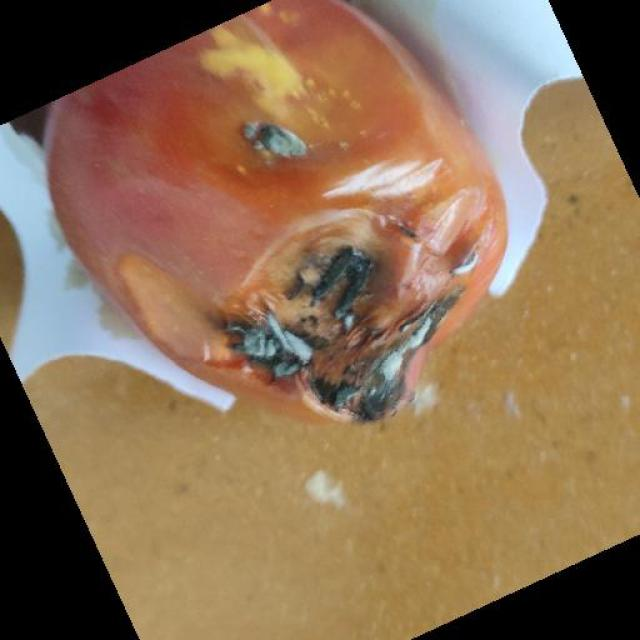Stale_tomato: (28, 0, 562, 450)
